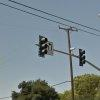Traffic light: (34, 30, 54, 66)
